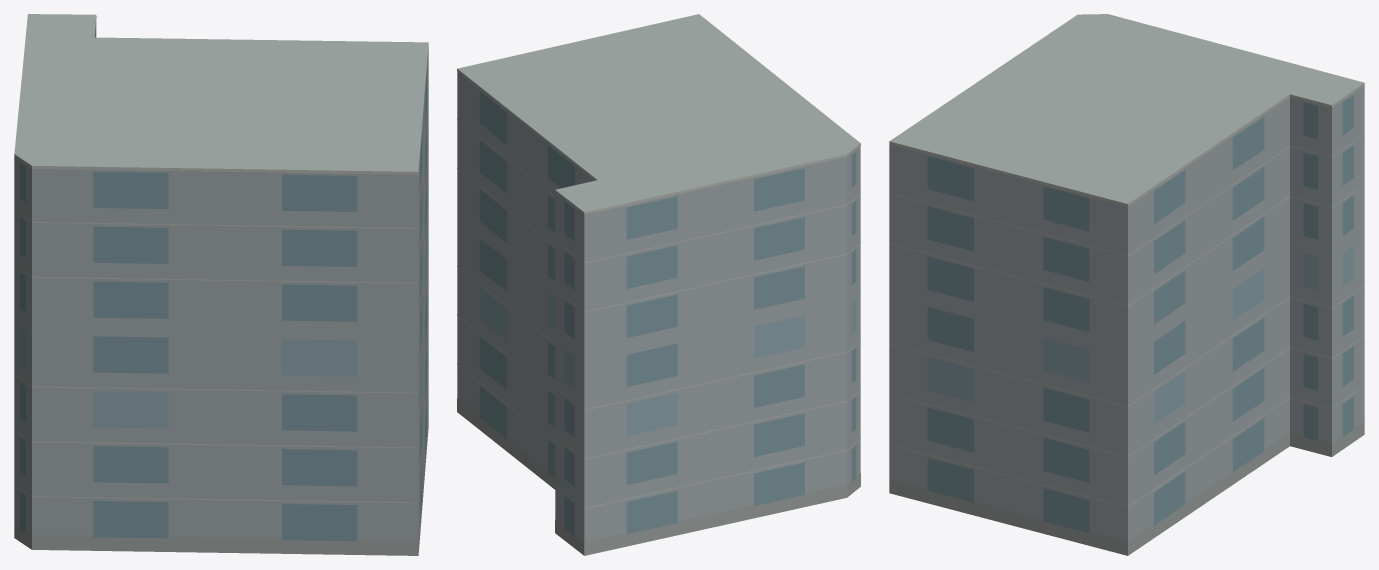
The model's file is survey-upis-33039087.glb.
The picture shows the model from 3 angles, left to right: view 1: azimuth 30°, elevation 25°; view 2: azimuth 150°, elevation 25°; view 3: azimuth 270°, elevation 25°; orthographic projection. The views are drawn at different scales.
Parts seen in each view (by area): view 1: survey-upis-33039087.tmp; view 2: survey-upis-33039087.tmp; view 3: survey-upis-33039087.tmp.
Boxes of the visible parts, box(x1,y1,x2,y2) form: survey-upis-33039087.tmp: box(14, 14, 428, 555); survey-upis-33039087.tmp: box(457, 14, 860, 555); survey-upis-33039087.tmp: box(889, 14, 1364, 555).
Bounding box in the file's own units: 36.4 × 31.4 × 38.47.
